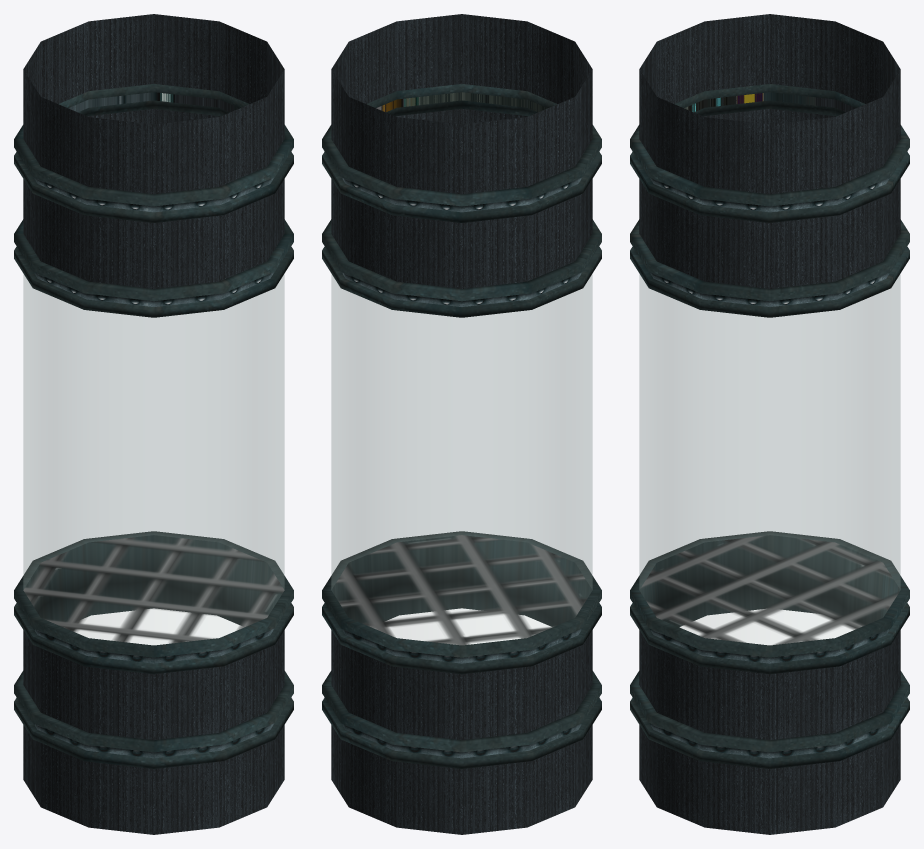
The picture shows the model from 3 angles, left to right: view 1: azimuth 30°, elevation 25°; view 2: azimuth 150°, elevation 25°; view 3: azimuth 270°, elevation 25°; orthographic projection.
Parts seen in each view (by area): view 1: Circle.005, Circle.002, Circle.004; view 2: Circle.005, Circle.002, Circle.004; view 3: Circle.005, Circle.002, Circle.004.
Boxes of the visible parts, x1=… form: Circle.005: x1=23, y1=274, x2=284, y2=644; Circle.002: x1=14, y1=14, x2=293, y2=317; Circle.004: x1=14, y1=531, x2=293, y2=834; Circle.005: x1=331, y1=274, x2=592, y2=644; Circle.002: x1=322, y1=14, x2=601, y2=317; Circle.004: x1=322, y1=531, x2=601, y2=834; Circle.005: x1=639, y1=274, x2=900, y2=644; Circle.002: x1=630, y1=14, x2=909, y2=317; Circle.004: x1=630, y1=531, x2=909, y2=834.
Bounding box in the file's own units: 1.07 × 3 × 1.07.
Materials: 4 (2 with a texture image).
